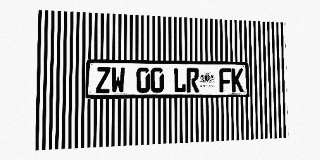0: (136, 67, 150, 93), (150, 67, 164, 93)
F: (219, 68, 231, 92)
K: (231, 68, 243, 92)
L: (173, 68, 186, 93)
R: (186, 68, 199, 93)
W: (111, 67, 125, 93)
Z: (96, 67, 110, 93)
